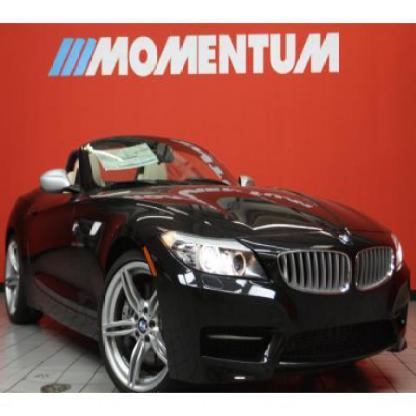Vehicle: (3, 134, 412, 394)
